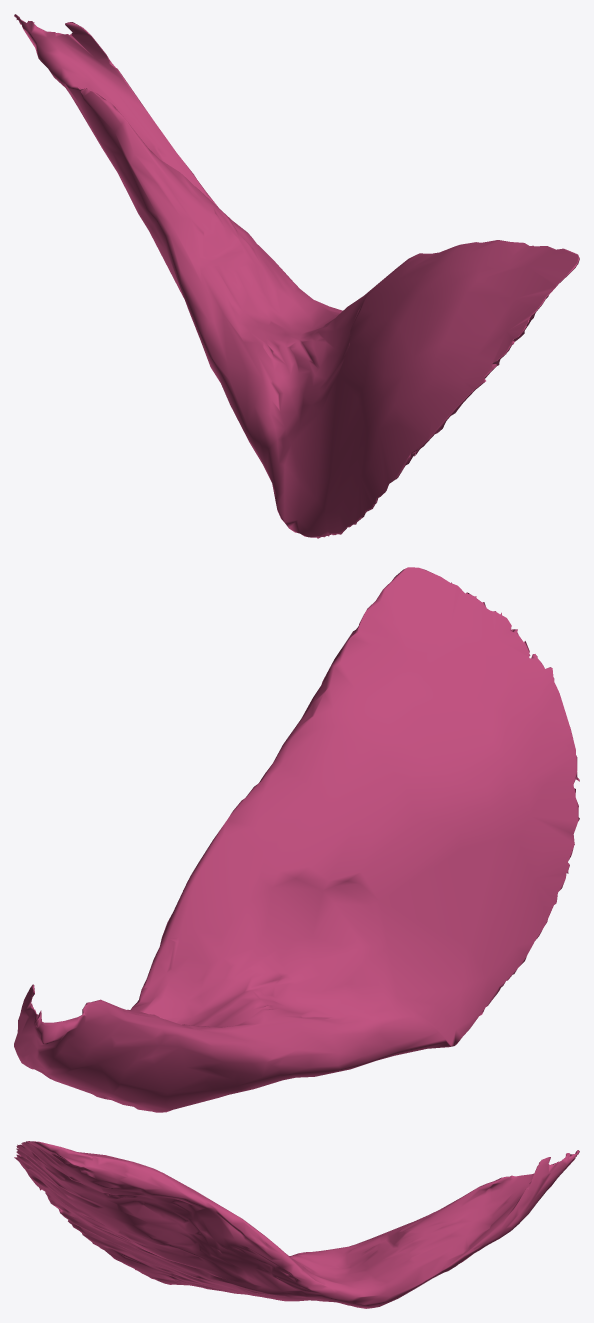
3 renders of one model, top to bottom at view 1: azimuth 30°, elevation 25°; view 2: azimuth 150°, elevation 25°; view 3: azimuth 270°, elevation 25°, orthographic. The views are drawn at different scales.
Parts seen in each view (by area): view 1: 右侧髂肌; view 2: 右侧髂肌; view 3: 右侧髂肌.
Part boxes in pixels (bbox=[...]): 右侧髂肌: bbox=[14, 14, 579, 538]; 右侧髂肌: bbox=[14, 567, 579, 1112]; 右侧髂肌: bbox=[14, 1141, 579, 1308].
Size of the model in its own units: 0.0827 by 0.1271 by 0.3412.
